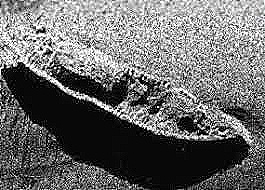ship: (0, 10, 252, 146)
